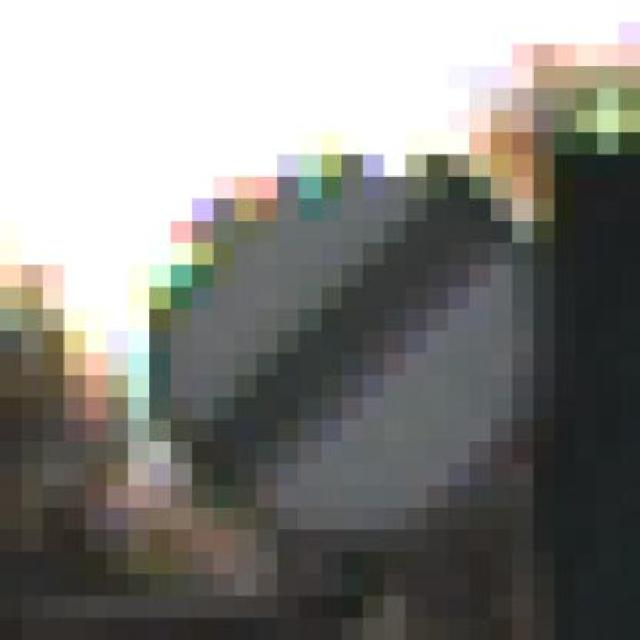End of all speed and passing limits: (107, 132, 555, 574)
